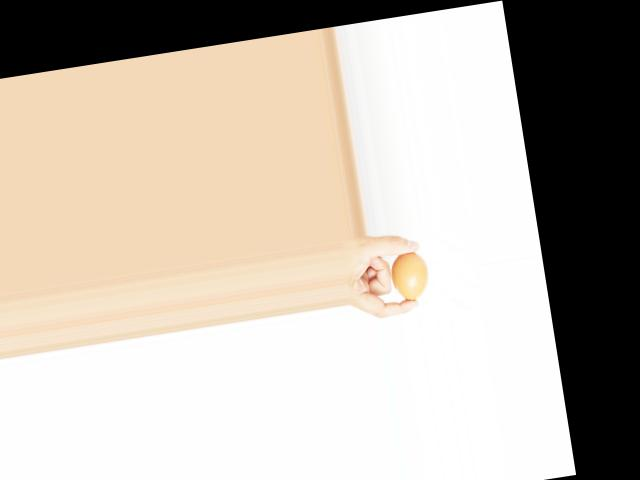egg: (388, 249, 433, 303)
